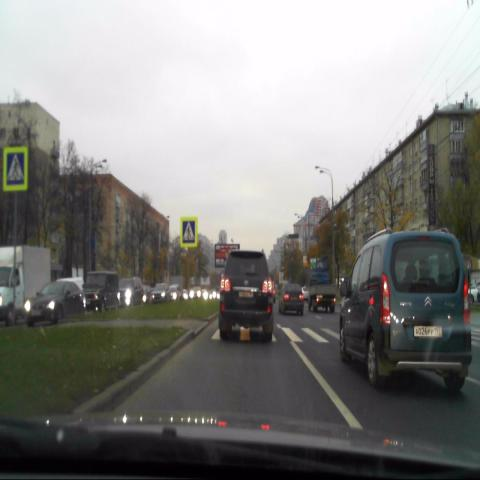5_19_1: (3, 146, 28, 192), (180, 217, 197, 247)
